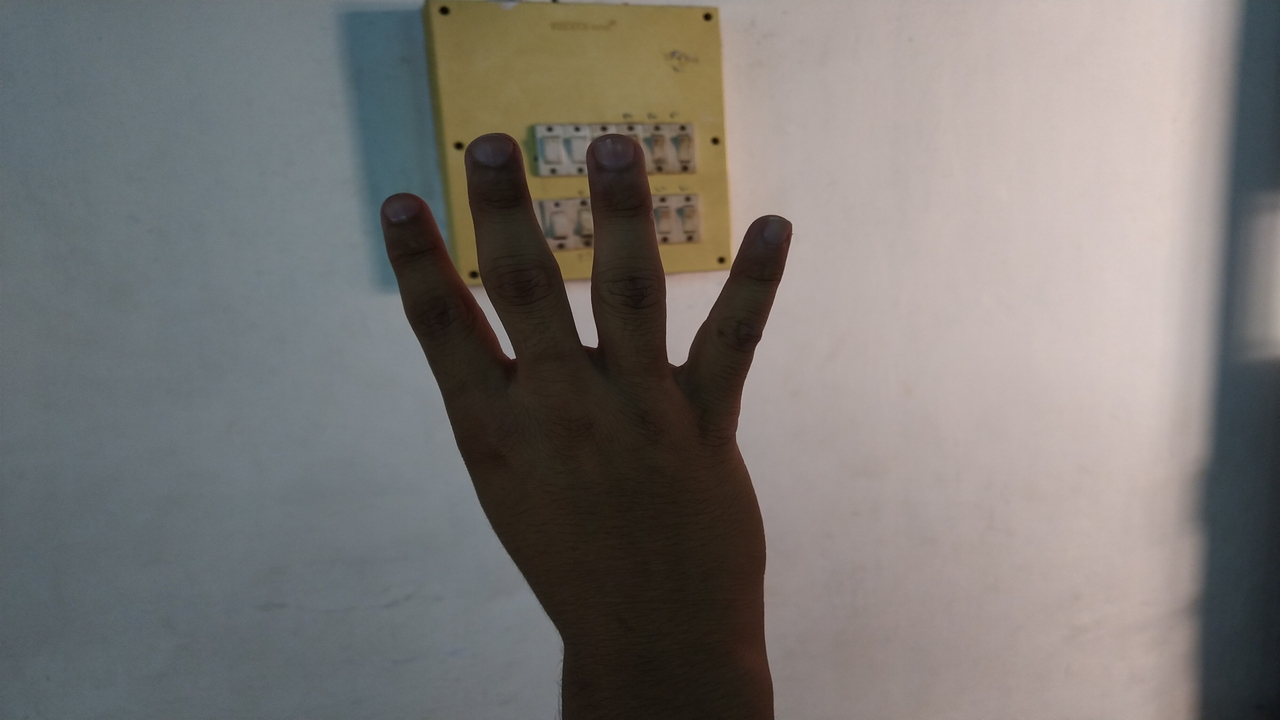fingertip: (582, 130, 646, 192), (734, 206, 798, 262), (460, 130, 524, 186), (370, 190, 430, 240)
